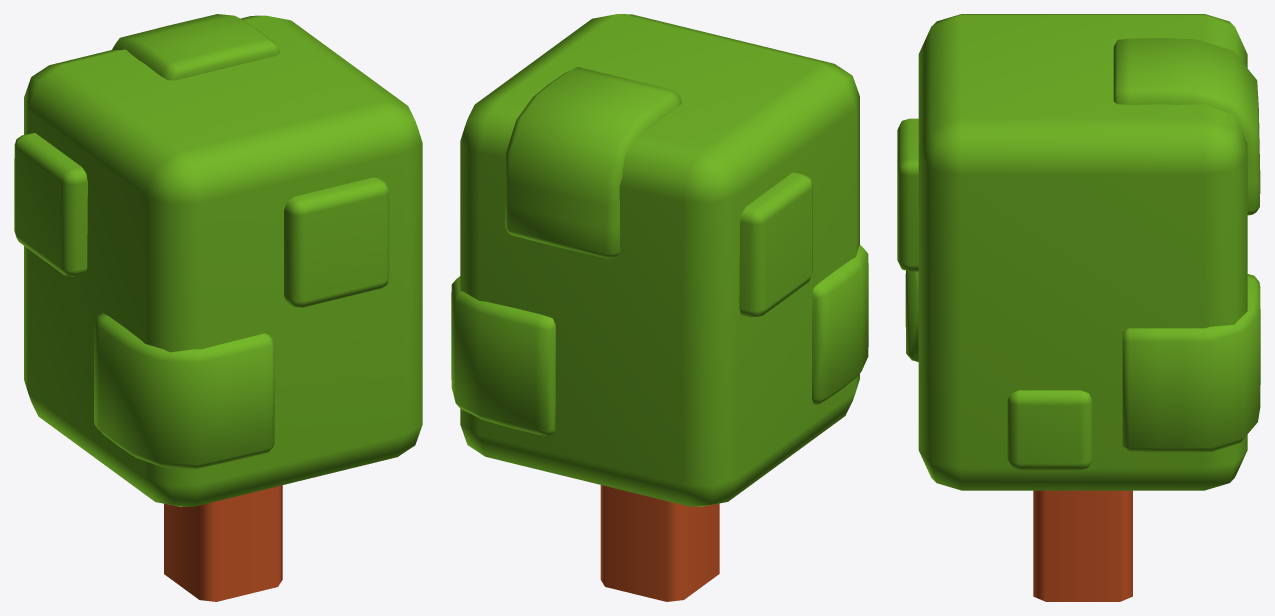
Rendered from Tree Low.fbx.
The picture shows the model from 3 angles, left to right: view 1: azimuth 30°, elevation 25°; view 2: azimuth 150°, elevation 25°; view 3: azimuth 270°, elevation 25°; orthographic projection. The views are drawn at different scales.
Visible parts, largest first — view 1: Cube.042, Cube.043; view 2: Cube.042, Cube.043; view 3: Cube.042, Cube.043.
Part boxes in pixels (x1,y1,x2,y2): Cube.042: (14, 14, 422, 506); Cube.043: (164, 485, 282, 601); Cube.042: (451, 14, 868, 506); Cube.043: (600, 485, 719, 601); Cube.042: (897, 14, 1260, 490); Cube.043: (1033, 490, 1132, 601).
Bounding box in the file's own units: 467 × 465 × 744.
